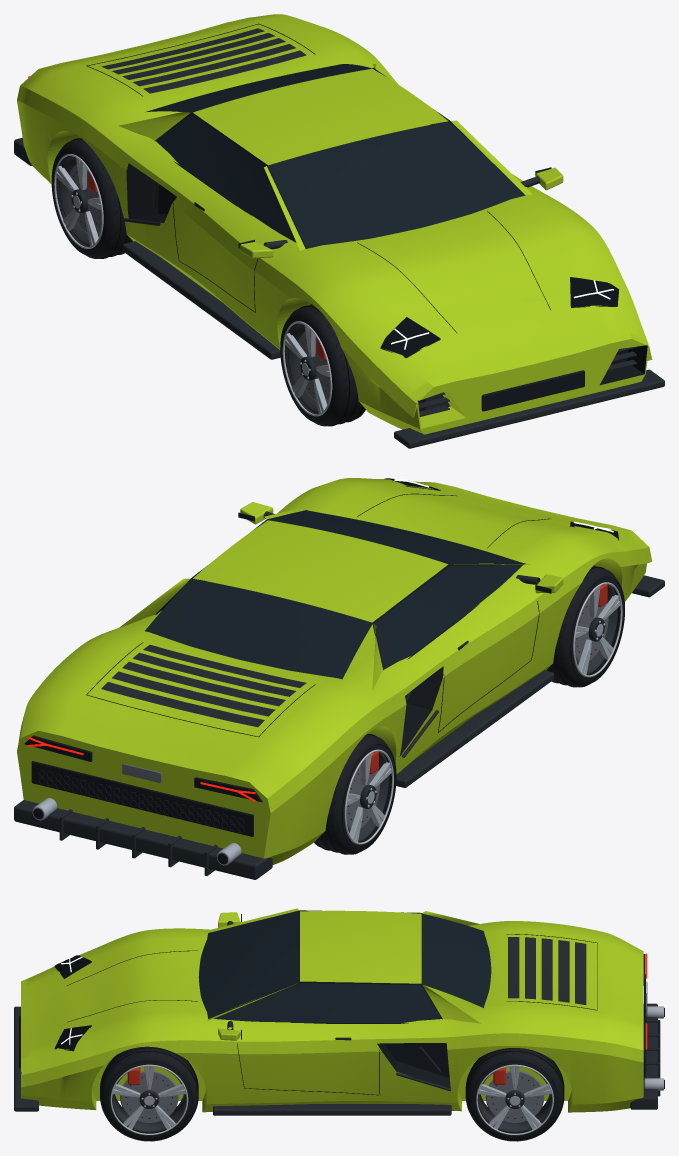
File: huracan.glb
3 renders of one model, top to bottom at view 1: azimuth 30°, elevation 25°; view 2: azimuth 150°, elevation 25°; view 3: azimuth 270°, elevation 25°, orthographic. The views are drawn at different scales.
Visible parts, largest first — view 1: V6 Angular stamped body, Web_Chassis_Rig_V6_Detail_Glass, Web_Chassis_Rig_huracan_Exterior_NewPaint, Web_Chassis_Rig_V6 Satin graphite, Web_Chassis_Rig_V6 Rubber, Web_Wheel_FR_Rubber, Web_Wheel_RR_Rubber, Web_Chassis_Rig_V6 Smoked lamp polymer, Web_Wheel_FR_V6 Forged alloy, Web_Wheel_RR_V6 Forged alloy, Brake rotor, Web_Wheel_FR_Graphite metal (+3 smaller); view 2: V6 Angular stamped body, Web_Chassis_Rig_V6_Detail_Glass, Web_Chassis_Rig_V6 Satin graphite, Web_Chassis_Rig_huracan_Exterior_NewPaint, Web_Chassis_Rig_V6 Rubber, Web_Wheel_FR_Rubber, Web_Wheel_RR_Rubber, Web_Wheel_FR_V6 Forged alloy, Web_Wheel_RR_V6 Forged alloy, Brake rotor.001, Brake rotor, Web_Wheel_FR_Graphite metal (+2 smaller); view 3: V6 Angular stamped body, Web_Chassis_Rig_V6_Detail_Glass, Web_Chassis_Rig_huracan_Exterior_NewPaint, Web_Chassis_Rig_V6 Satin graphite, Web_Chassis_Rig_V6 Rubber, Web_Wheel_FL_Rubber, Web_Wheel_RL_Rubber, Brake rotor.003, Brake rotor.002, Web_Wheel_FL_V6 Forged alloy, Web_Wheel_RL_V6 Forged alloy, Web_Chassis_Rig_V6 Smoked lamp polymer (+7 smaller).
Part boxes in pixels (bbox=[...]): V6 Angular stamped body: bbox=[17, 14, 652, 434]; Web_Chassis_Rig_V6_Detail_Glass: bbox=[145, 64, 551, 248]; Web_Chassis_Rig_huracan_Exterior_NewPaint: bbox=[118, 64, 563, 258]; Web_Chassis_Rig_V6 Satin graphite: bbox=[14, 28, 664, 448]; Web_Chassis_Rig_V6 Rubber: bbox=[86, 23, 628, 411]; Web_Wheel_FR_Rubber: bbox=[280, 305, 365, 426]; Web_Wheel_RR_Rubber: bbox=[51, 138, 132, 258]; Web_Chassis_Rig_V6 Smoked lamp polymer: bbox=[380, 277, 618, 357]; Web_Wheel_FR_V6 Forged alloy: bbox=[284, 325, 329, 413]; Web_Wheel_RR_V6 Forged alloy: bbox=[56, 158, 101, 246]; Brake rotor: bbox=[68, 164, 101, 233]; Web_Wheel_FR_Graphite metal: bbox=[287, 323, 328, 414]; V6 Angular stamped body: bbox=[17, 478, 652, 864]; Web_Chassis_Rig_V6_Detail_Glass: bbox=[145, 510, 551, 679]; Web_Chassis_Rig_V6 Satin graphite: bbox=[14, 511, 664, 879]; Web_Chassis_Rig_huracan_Exterior_NewPaint: bbox=[119, 502, 563, 689]; Web_Chassis_Rig_V6 Rubber: bbox=[24, 485, 618, 864]; Web_Wheel_FR_Rubber: bbox=[546, 566, 624, 687]; Web_Wheel_RR_Rubber: bbox=[314, 735, 396, 854]; Web_Wheel_FR_V6 Forged alloy: bbox=[575, 586, 620, 674]; Web_Wheel_RR_V6 Forged alloy: bbox=[347, 753, 391, 842]; Brake rotor.001: bbox=[575, 597, 608, 662]; Brake rotor: bbox=[346, 765, 380, 829]; Web_Wheel_FR_Graphite metal: bbox=[576, 584, 618, 675]; V6 Angular stamped body: bbox=[21, 921, 643, 1112]; Web_Chassis_Rig_V6_Detail_Glass: bbox=[198, 911, 491, 1039]; Web_Chassis_Rig_huracan_Exterior_NewPaint: bbox=[207, 908, 480, 1040]; Web_Chassis_Rig_V6 Satin graphite: bbox=[14, 921, 660, 1115]; Web_Chassis_Rig_V6 Rubber: bbox=[19, 910, 664, 1095]; Web_Wheel_FL_Rubber: bbox=[101, 1046, 197, 1141]; Web_Wheel_RL_Rubber: bbox=[466, 1048, 563, 1141]; Brake rotor.003: bbox=[120, 1070, 178, 1123]; Brake rotor.002: bbox=[485, 1071, 544, 1123]; Web_Wheel_FL_V6 Forged alloy: bbox=[112, 1066, 185, 1129]; Web_Wheel_RL_V6 Forged alloy: bbox=[478, 1066, 551, 1129]; Web_Chassis_Rig_V6 Smoked lamp polymer: bbox=[55, 955, 91, 1050].
Size of the model in its own units: 2.09 by 1.15 by 4.66.
